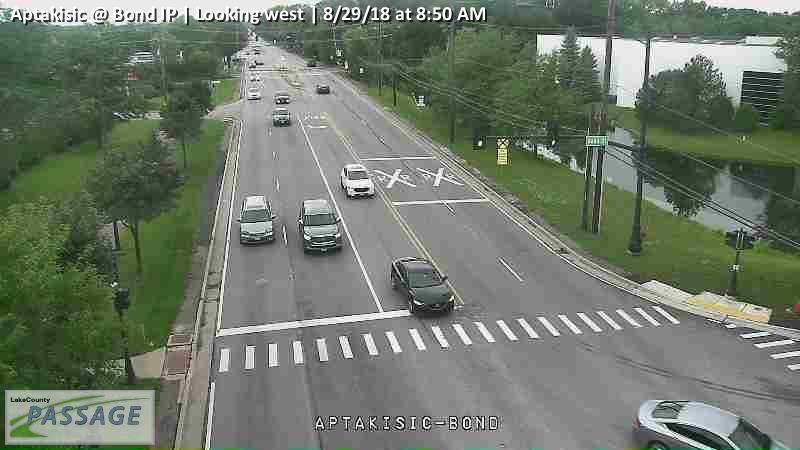Sedan: (630, 398, 796, 450), (390, 256, 455, 314), (298, 199, 342, 253), (237, 195, 276, 243), (340, 163, 375, 197), (272, 108, 290, 125), (273, 93, 290, 104), (316, 82, 331, 94), (247, 88, 261, 100), (306, 60, 315, 66), (255, 58, 263, 64)
